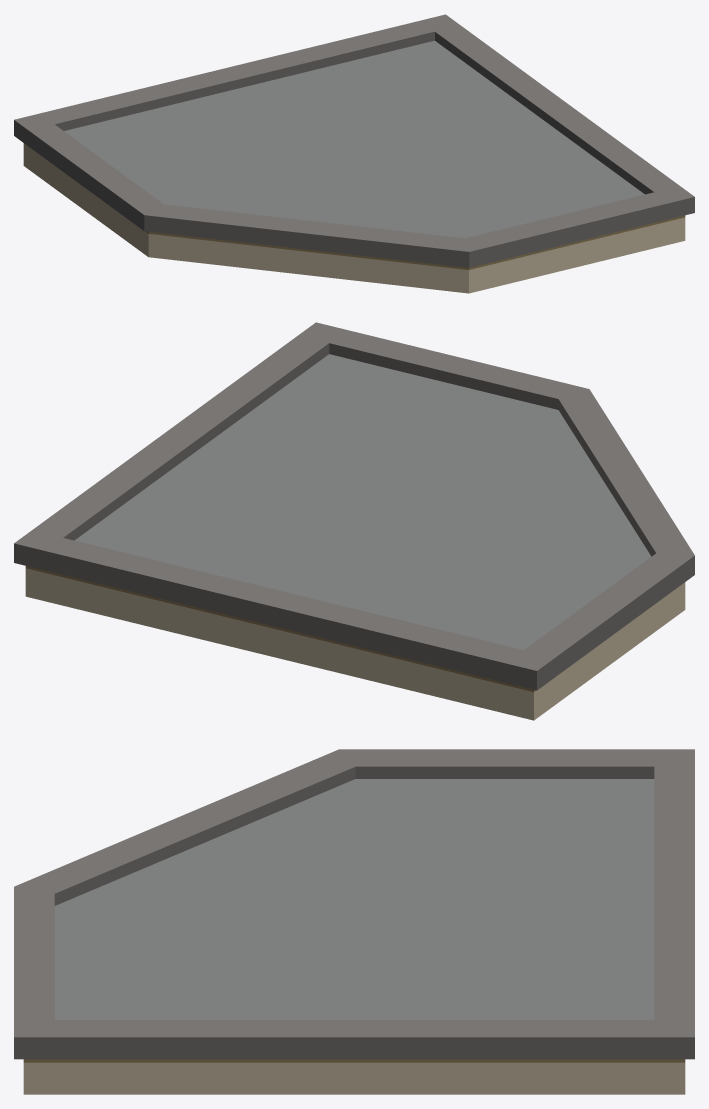
The model's file is Building_A_03_01.FBX.
3 renders of one model, top to bottom at view 1: azimuth 30°, elevation 25°; view 2: azimuth 150°, elevation 25°; view 3: azimuth 270°, elevation 25°, orthographic. The views are drawn at different scales.
Parts seen in each view (by area): view 1: Building_A_03_01; view 2: Building_A_03_01; view 3: Building_A_03_01.
Part boxes in pixels (x1=…): Building_A_03_01: x1=14, y1=14, x2=694, y2=293; Building_A_03_01: x1=14, y1=322, x2=694, y2=720; Building_A_03_01: x1=14, y1=749, x2=694, y2=1094.
Size of the model in its own units: 5.02 by 0.5001 by 5.02.
